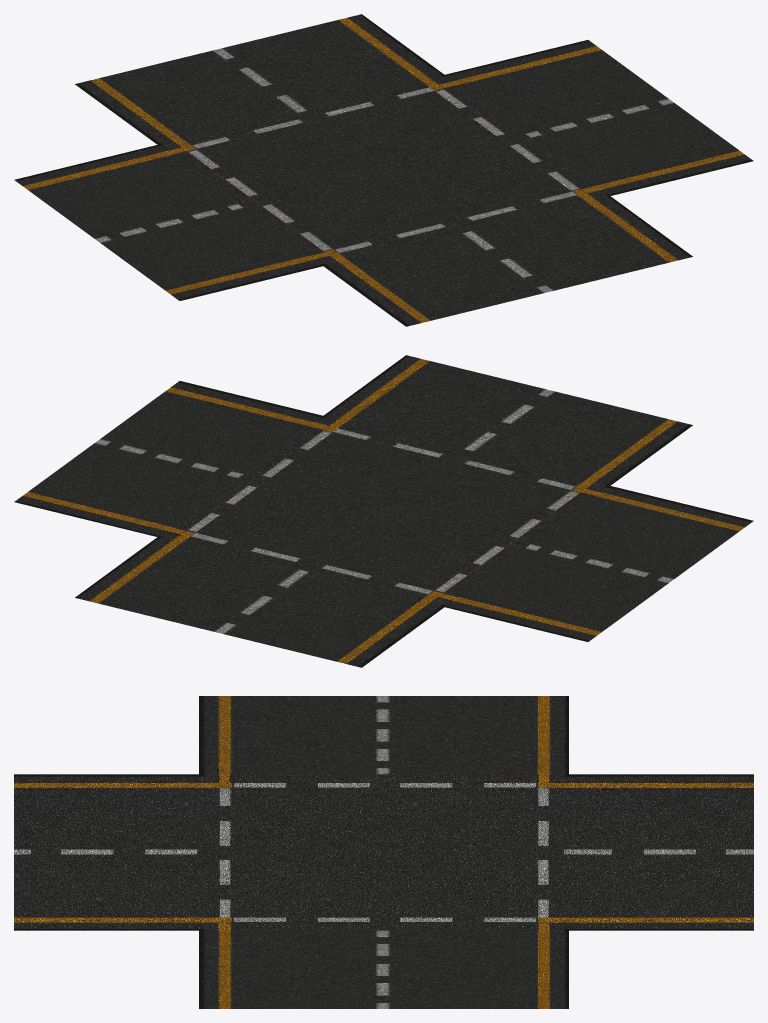
The model's file is 4way.fbx.
3 views of the same model, one above another, from view 1: azimuth 30°, elevation 25°; view 2: azimuth 150°, elevation 25°; view 3: azimuth 270°, elevation 25° (orthographic). The views are drawn at different scales.
Visible parts, largest first — view 1: 4way; view 2: 4way; view 3: 4way.
Part boxes in pixels (<box>): 4way: <box>14,14,753,326</box>; 4way: <box>14,355,753,667</box>; 4way: <box>14,696,753,1008</box>.
Bounding box in the file's own units: 200 × 4.01e-05 × 200.
Materials: 1 (1 with a texture image).
